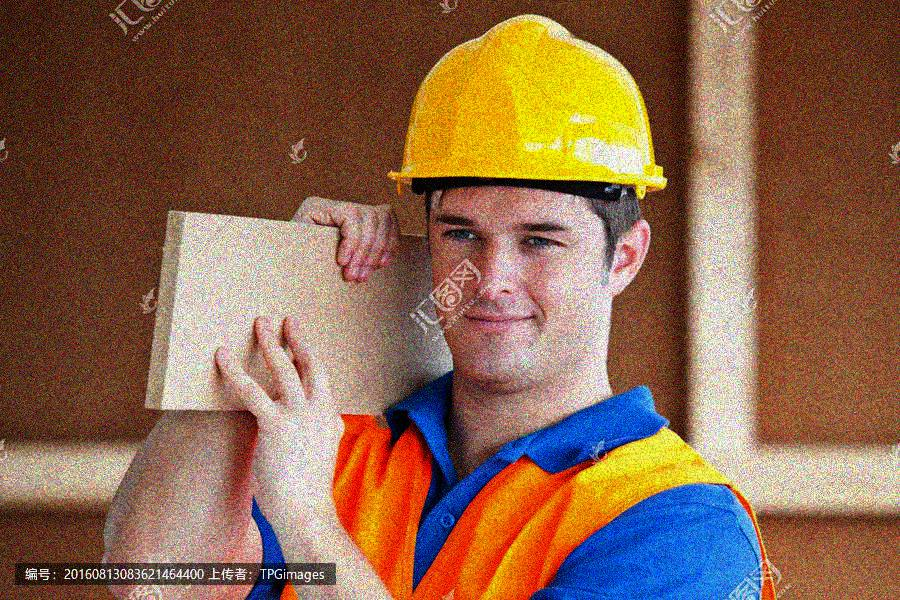helmet: (380, 11, 672, 391)
